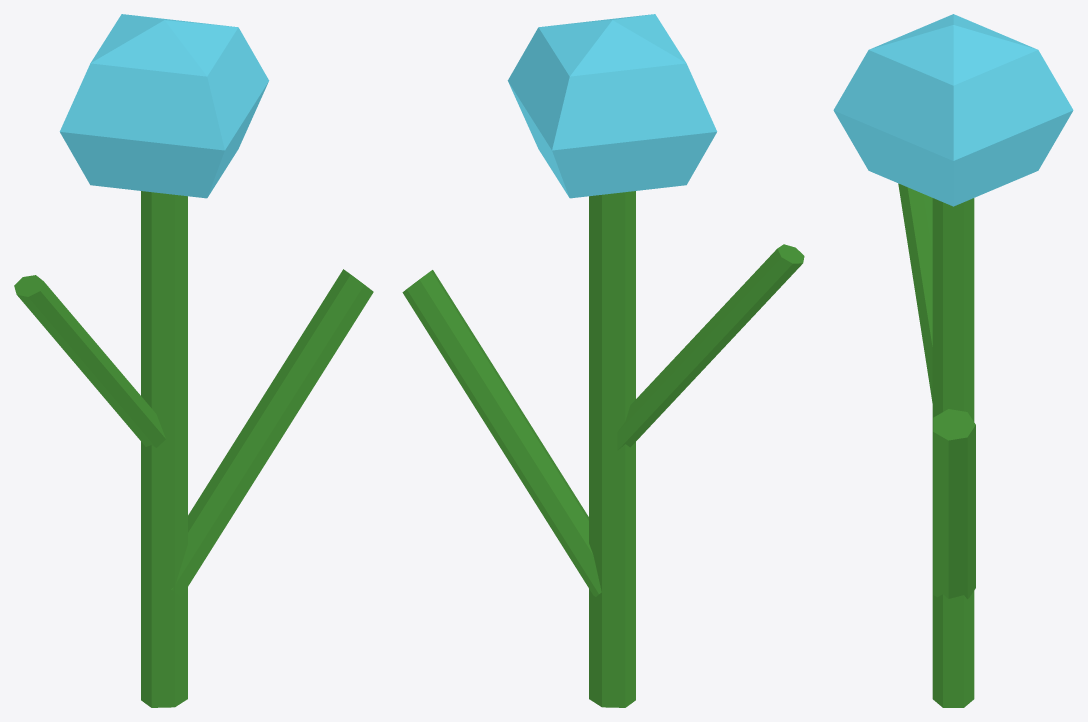
The model's file is TarrimeBloom.glb.
The picture shows the model from 3 angles, left to right: view 1: azimuth 30°, elevation 25°; view 2: azimuth 150°, elevation 25°; view 3: azimuth 270°, elevation 25°; orthographic projection.
Visible parts, largest first — view 1: Pod1, Cylinder, Cylinder.002, Cylinder.001; view 2: Pod1, Cylinder, Cylinder.002, Cylinder.001; view 3: Pod1, Cylinder, Cylinder.002, Cylinder.001.
Boxes of the visible parts, <box> form: Pod1: <box>59,14,269,198</box>; Cylinder: <box>141,191,187,707</box>; Cylinder.002: <box>171,269,373,596</box>; Cylinder.001: <box>14,275,165,447</box>; Pod1: <box>507,14,717,198</box>; Cylinder: <box>589,191,635,707</box>; Cylinder.002: <box>402,270,601,596</box>; Cylinder.001: <box>617,244,804,450</box>; Pod1: <box>833,14,1073,206</box>; Cylinder: <box>932,198,974,707</box>; Cylinder.002: <box>933,409,975,599</box>; Cylinder.001: <box>898,183,932,402</box>.
Size of the model in its own units: 1.03 by 1.78 by 0.576.
Materials: 3 (3 with a texture image).
